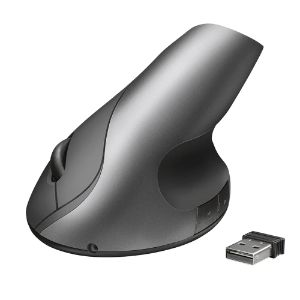mouse: (25, 15, 222, 258)
